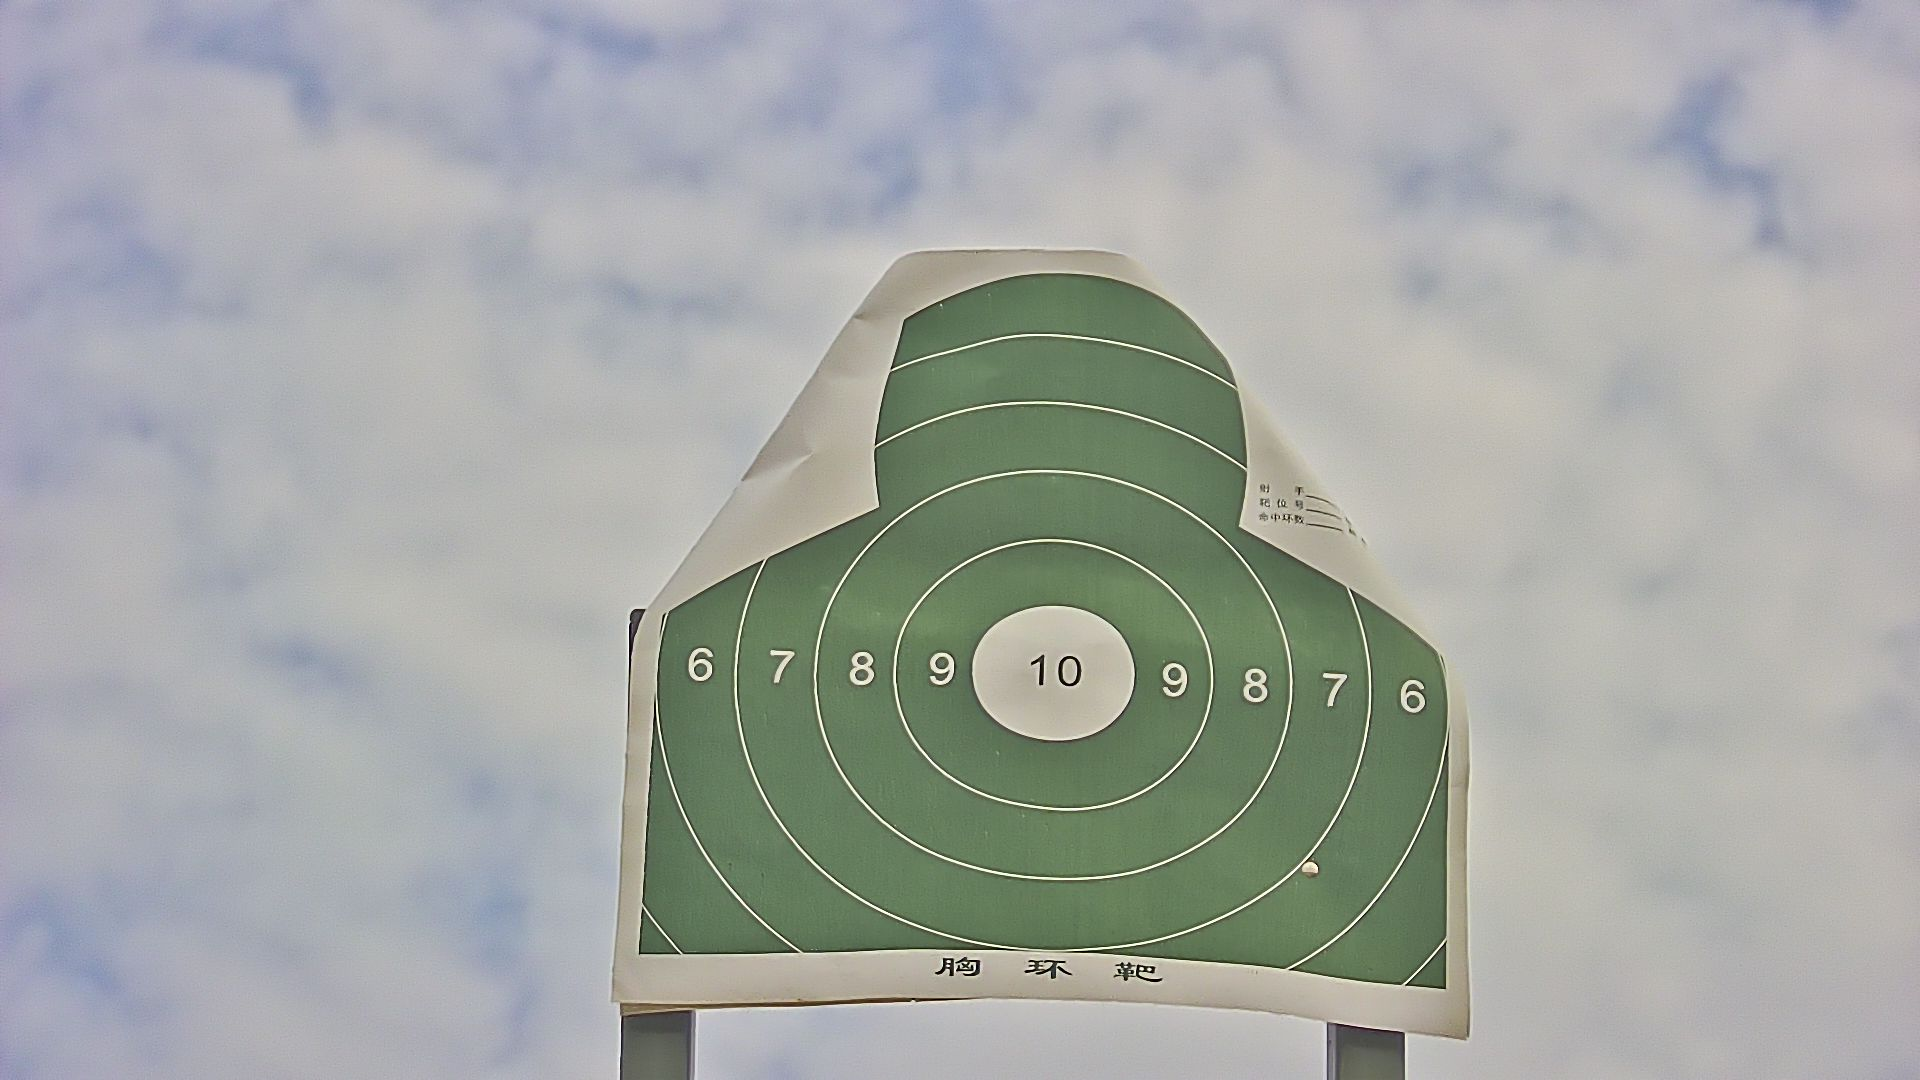kernel: (1046, 666, 1048, 674)
target: (636, 268, 1452, 992)
ten: (972, 600, 1137, 742)
